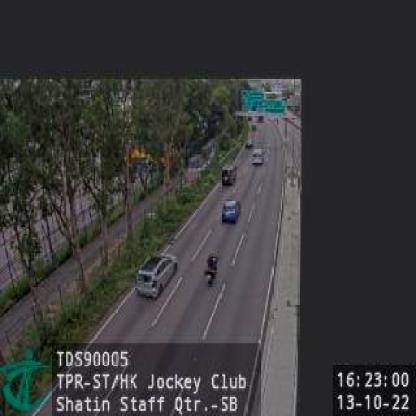Car: (136, 252, 176, 299), (221, 197, 241, 225), (222, 163, 239, 186), (251, 147, 266, 166), (245, 138, 252, 148)
